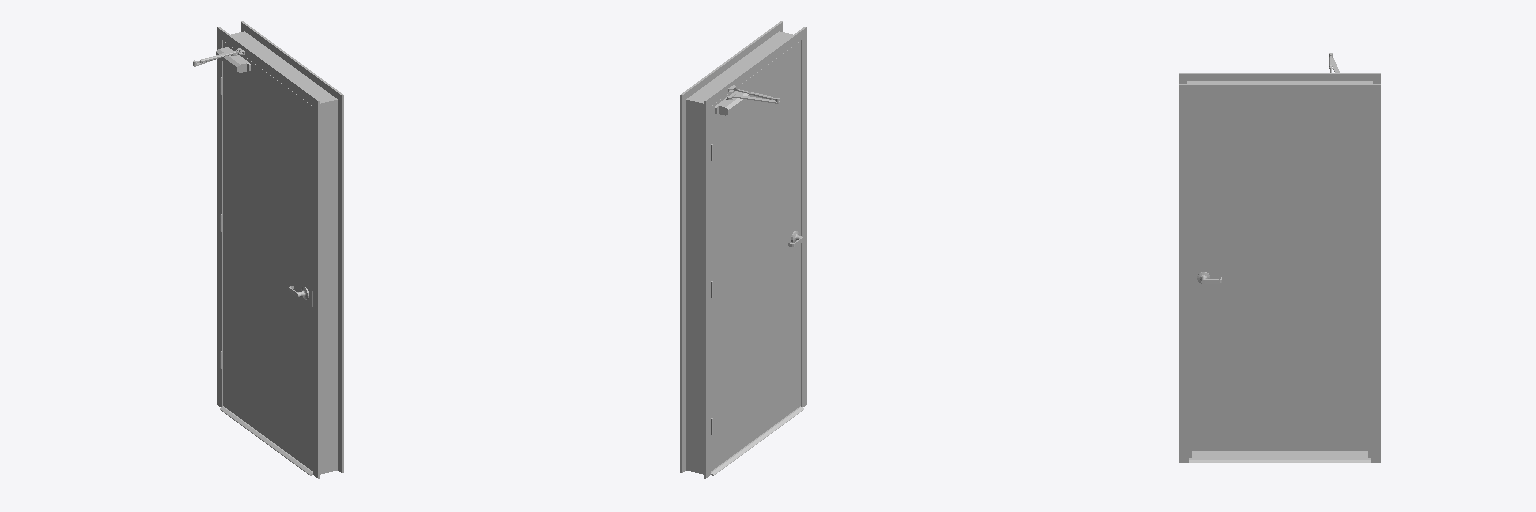
File: 3x7Single.obj
3 renders of one model, left to right at view 1: azimuth 30°, elevation 25°; view 2: azimuth 150°, elevation 25°; view 3: azimuth 270°, elevation 25°, orthographic.
Visible parts, largest first — view 1: door_010_Cylinder.003, frame_010_Plane.015, floor_plate_010_Cube.002; view 2: door_010_Cylinder.003, frame_010_Plane.015, floor_plate_010_Cube.002; view 3: door_010_Cylinder.003, frame_010_Plane.015, floor_plate_010_Cube.002.
Part boxes in pixels (x1,y1,x2,y2): door_010_Cylinder.003: (220,41,312,470); frame_010_Plane.015: (217,21,343,478); floor_plate_010_Cube.002: (220,406,312,475); door_010_Cylinder.003: (711,41,800,470); frame_010_Plane.015: (680,21,806,478); floor_plate_010_Cube.002: (711,406,803,475); door_010_Cylinder.003: (1192,94,1367,450); frame_010_Plane.015: (1179,73,1380,462); floor_plate_010_Cube.002: (1189,451,1370,462).
Size of the model in its own units: 0.4361 by 2.1 by 1.02.